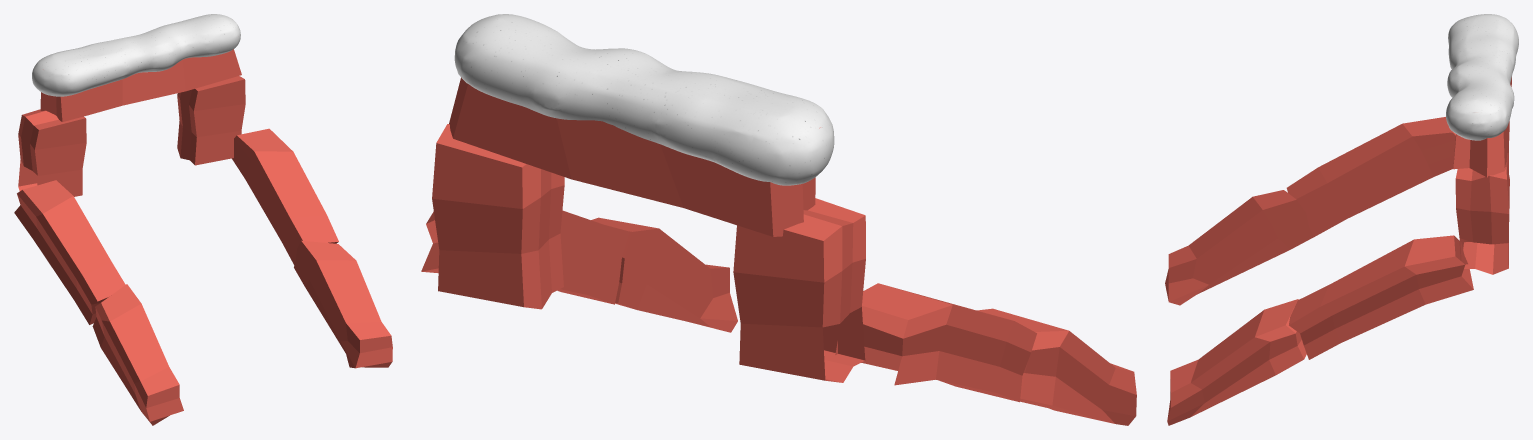
The model's file is RedGoal.fbx.
3 renders of one model, left to right at view 1: azimuth 30°, elevation 25°; view 2: azimuth 150°, elevation 25°; view 3: azimuth 270°, elevation 25°, orthographic. The views are drawn at different scales.
Visible parts, largest first — view 1: SnowBall.016; view 2: SnowBall.016; view 3: SnowBall.016.
Boxes of the visible parts, x1,y1,x2,y2 form: SnowBall.016: (14, 14, 392, 425); SnowBall.016: (421, 14, 1136, 425); SnowBall.016: (1165, 14, 1518, 425).
Size of the model in its own units: 300 by 296 by 310.
